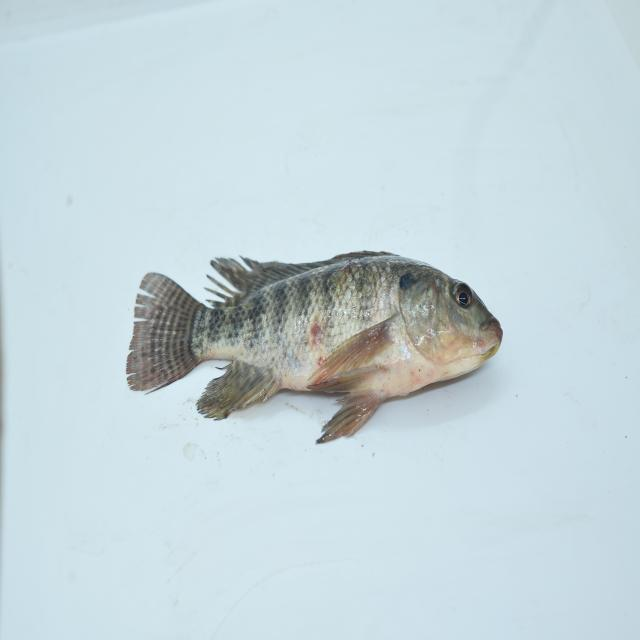Columnaris Disease: (111, 246, 532, 450)
